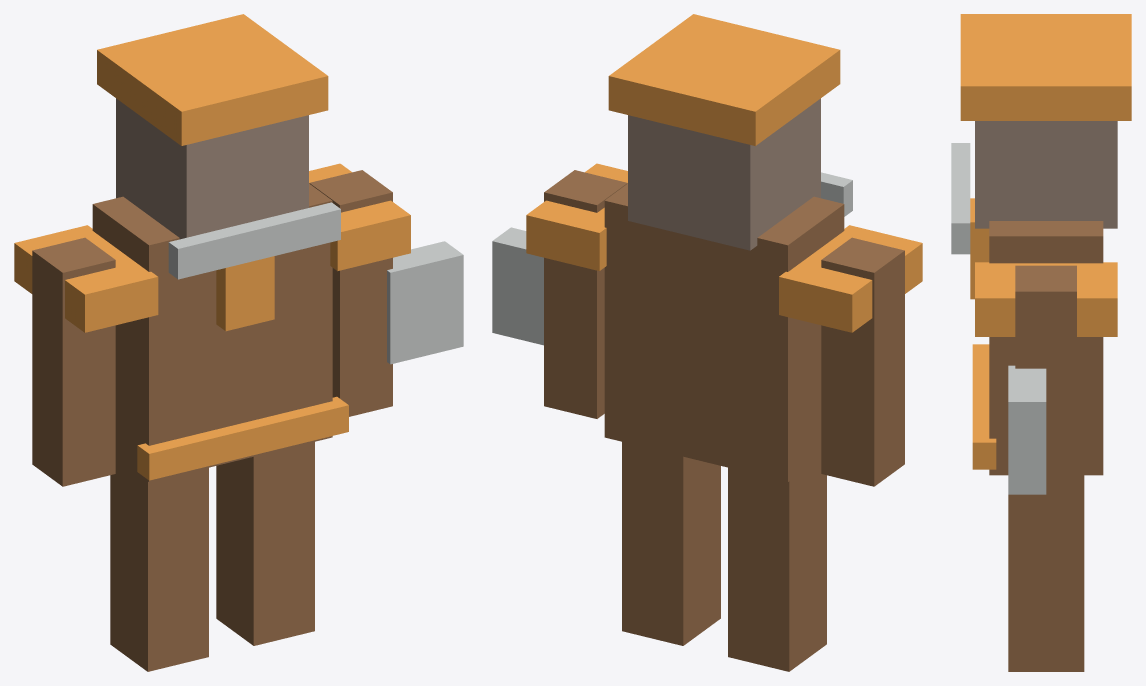
File: 20_pax_signalborn_specialist_near_scribes.glb
The picture shows the model from 3 angles, left to right: view 1: azimuth 30°, elevation 25°; view 2: azimuth 150°, elevation 25°; view 3: azimuth 270°, elevation 25°; orthographic projection.
Visible parts, largest first — view 1: Pax Signalborn, Specialist near Scribes'; view 2: Pax Signalborn, Specialist near Scribes'; view 3: Pax Signalborn, Specialist near Scribes'.
Boxes of the visible parts, bbox=[...] form: Pax Signalborn, Specialist near Scribes': bbox=[14, 14, 463, 671]; Pax Signalborn, Specialist near Scribes': bbox=[492, 14, 922, 671]; Pax Signalborn, Specialist near Scribes': bbox=[951, 14, 1131, 671].
Size of the model in its own units: 1.02 by 1.41 by 0.3979.
